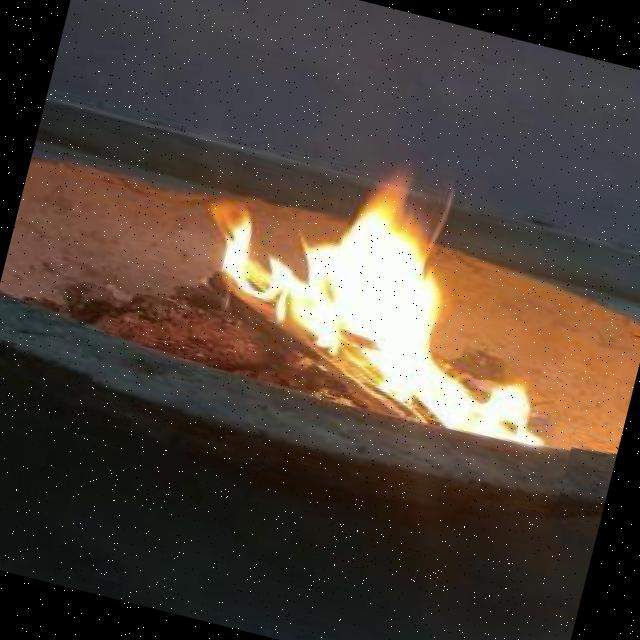fire: (87, 114, 625, 516)
